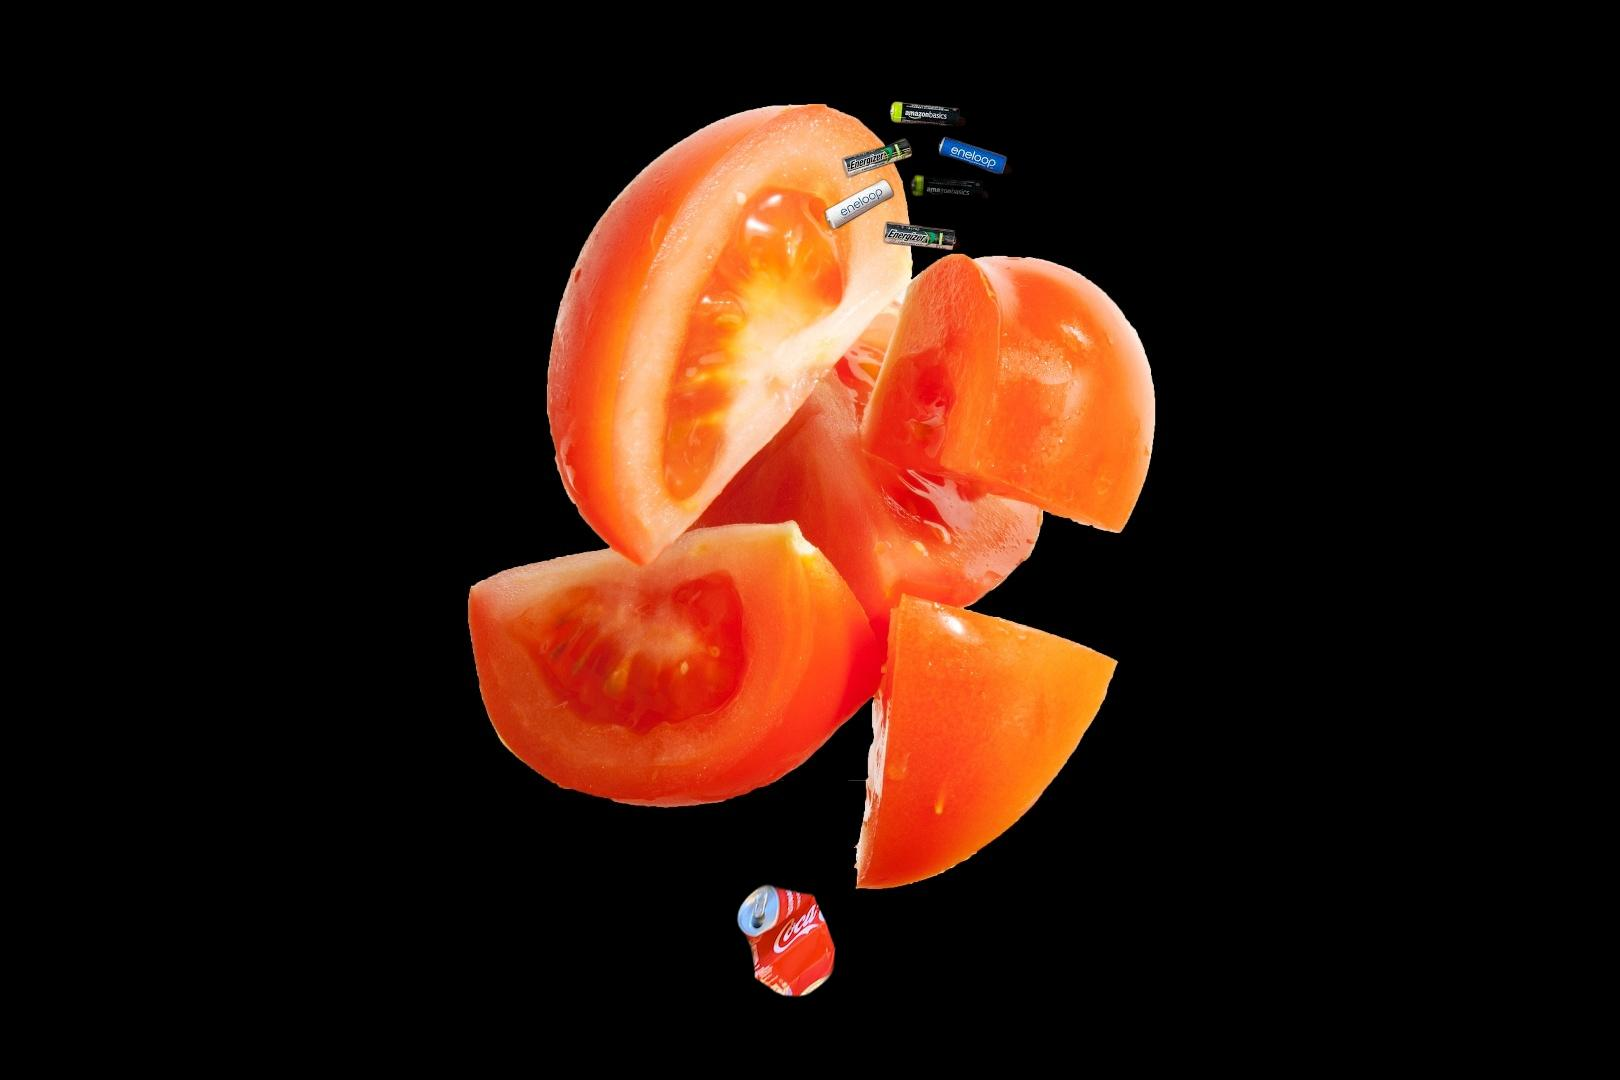battery: (818, 98, 1015, 253)
metal-cans: (733, 877, 839, 1003)
